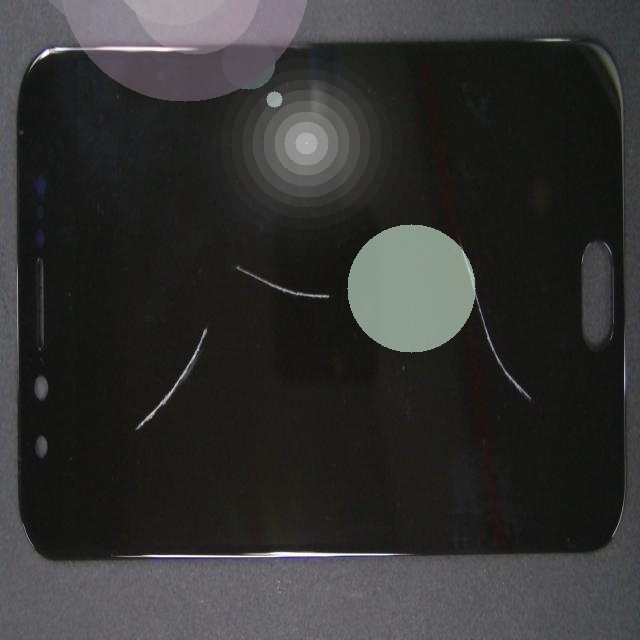scratch: (309, 272, 640, 499), (225, 151, 459, 402), (145, 86, 268, 511)
